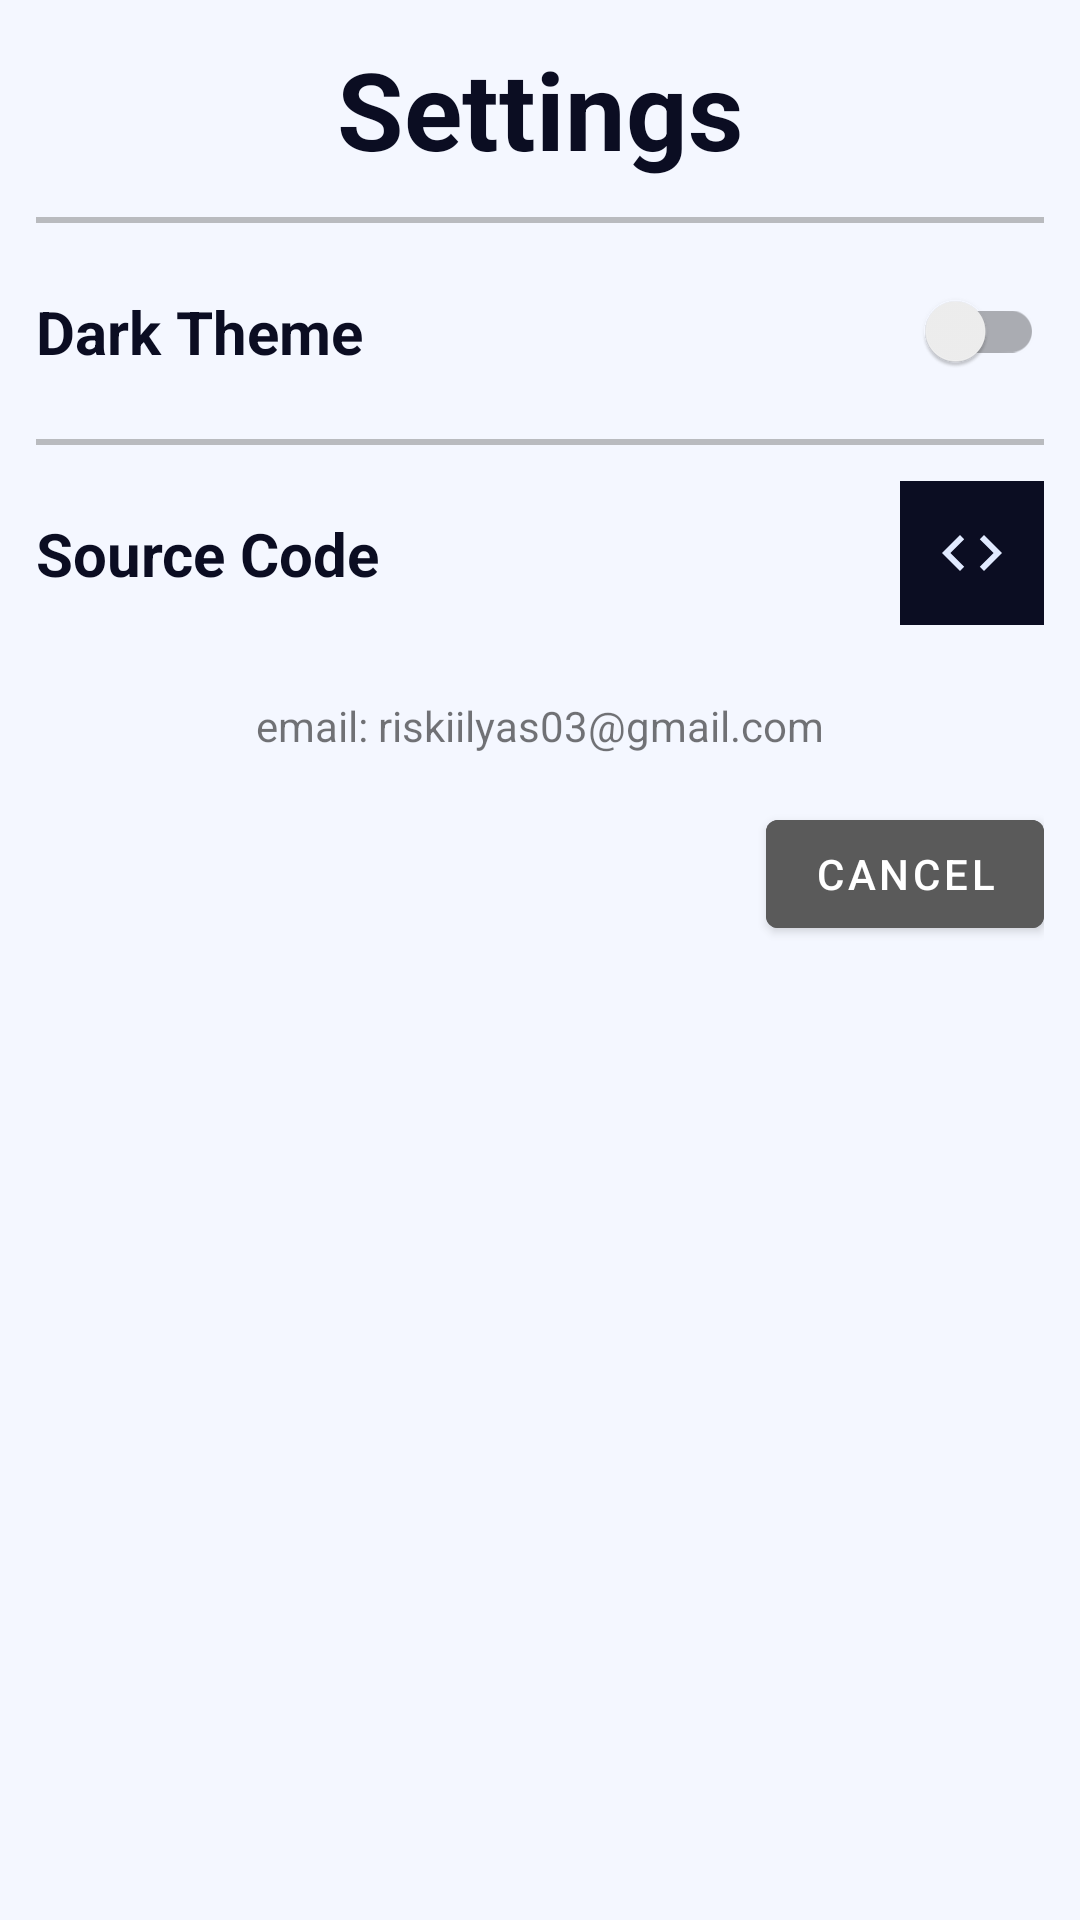

Where to tap for icons on this 1080px x 1920px app screen, as [x,y]:
Source Code: [972,553]
